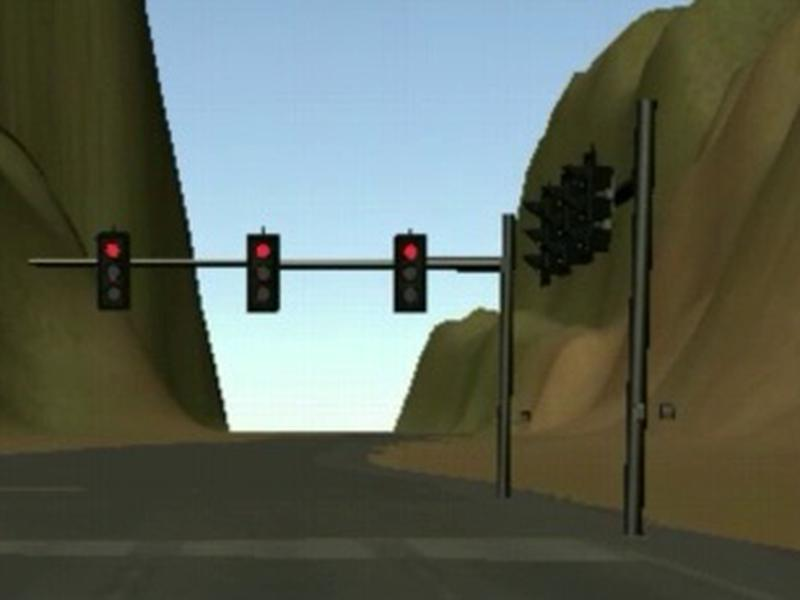Red: (391, 234, 427, 313), (245, 234, 279, 313), (96, 233, 131, 308)
